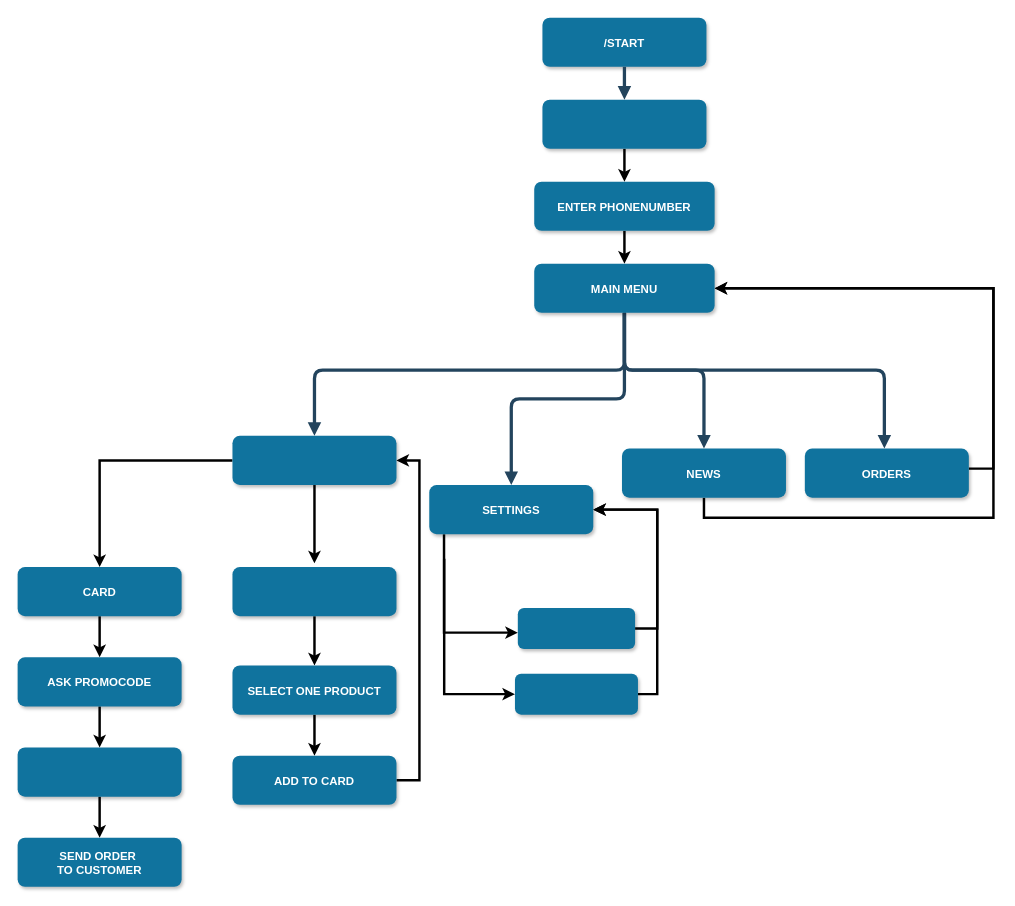
Image size: 1015x906. Some labels were removed from this diagram. The shapes that lost their labels are listed below. From the top down, each one's centre as x and y in pixels, then its label:
At point 625,125: "ENTER NAME".
At point 315,461: "MENU".
At point 315,592: "PRODUCTS".
At point 577,629: "CHANGE NAME".
At point 576,695: "CHANGE NUMBER".
At point 100,773: "CREATE ORDER".
